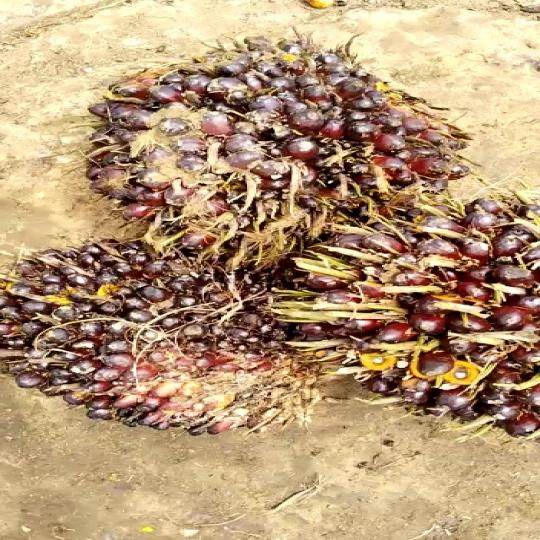kurang masak: (99, 36, 459, 255), (0, 238, 316, 439), (291, 198, 540, 448)
